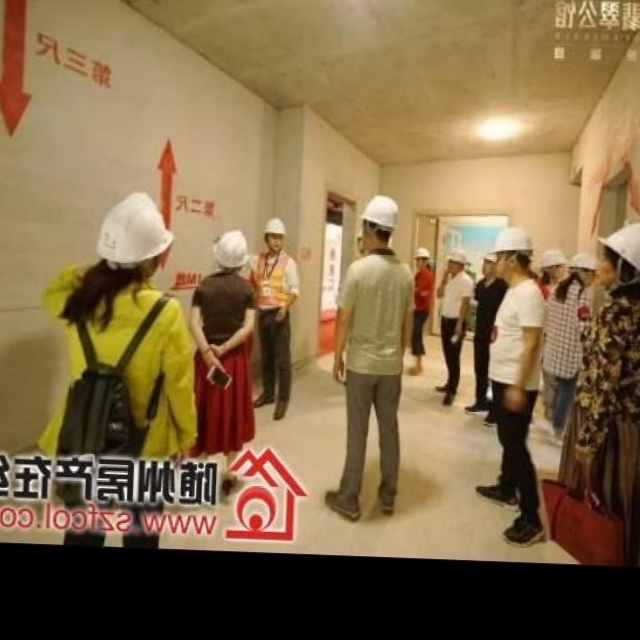Con_Casco: (99, 191, 172, 276), (490, 226, 530, 283), (363, 195, 401, 246)
